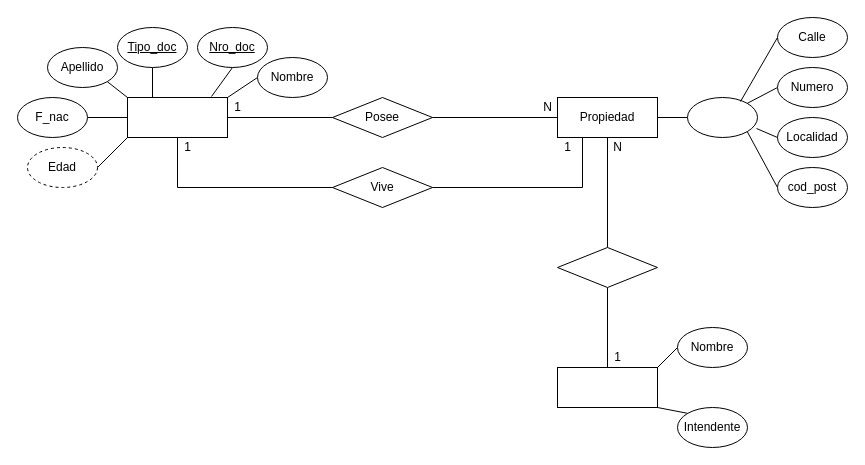
Image size: 865x465. Some labels were removed from this diagram. Here are the shapes that lost their labels. From the top down, the centre of each, then its label:
At (x=177, y=117): "Habitante".
At (x=722, y=117): "Direccion".
At (x=607, y=267): "Pertenece a".
At (x=607, y=387): "Municipio".
